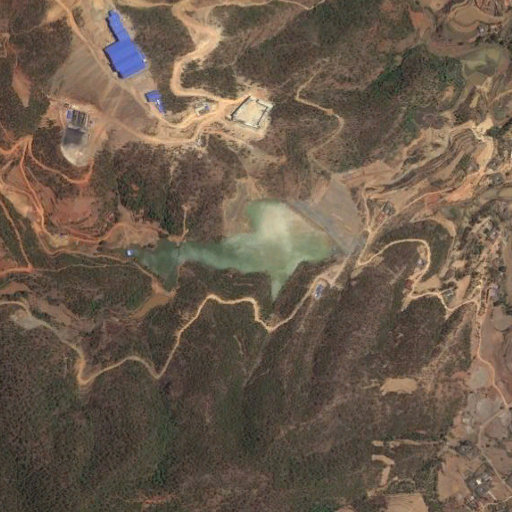tp: (130, 171, 361, 302)
